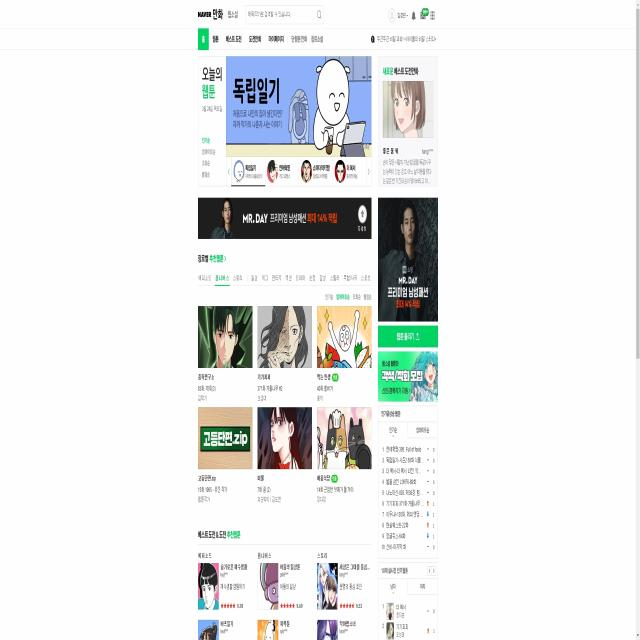menu-bar: (386, 6, 438, 24)
search: (244, 4, 324, 24)
side-panel: (377, 50, 439, 640)
tab-bar: (196, 269, 372, 285), (197, 28, 326, 48)
